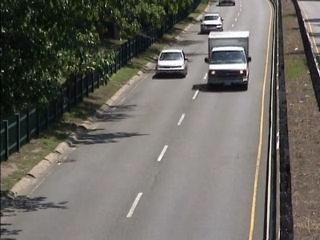car: (151, 47, 191, 80), (200, 10, 226, 36)
truck: (203, 31, 256, 91)
